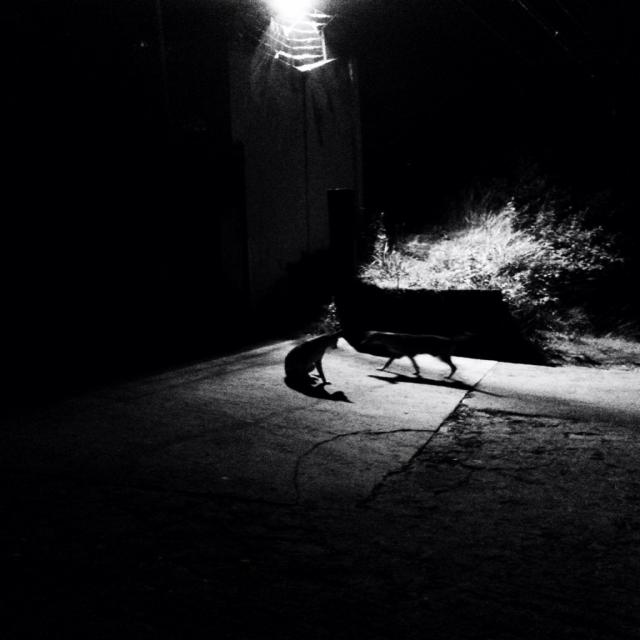Dog: (249, 217, 493, 426)
